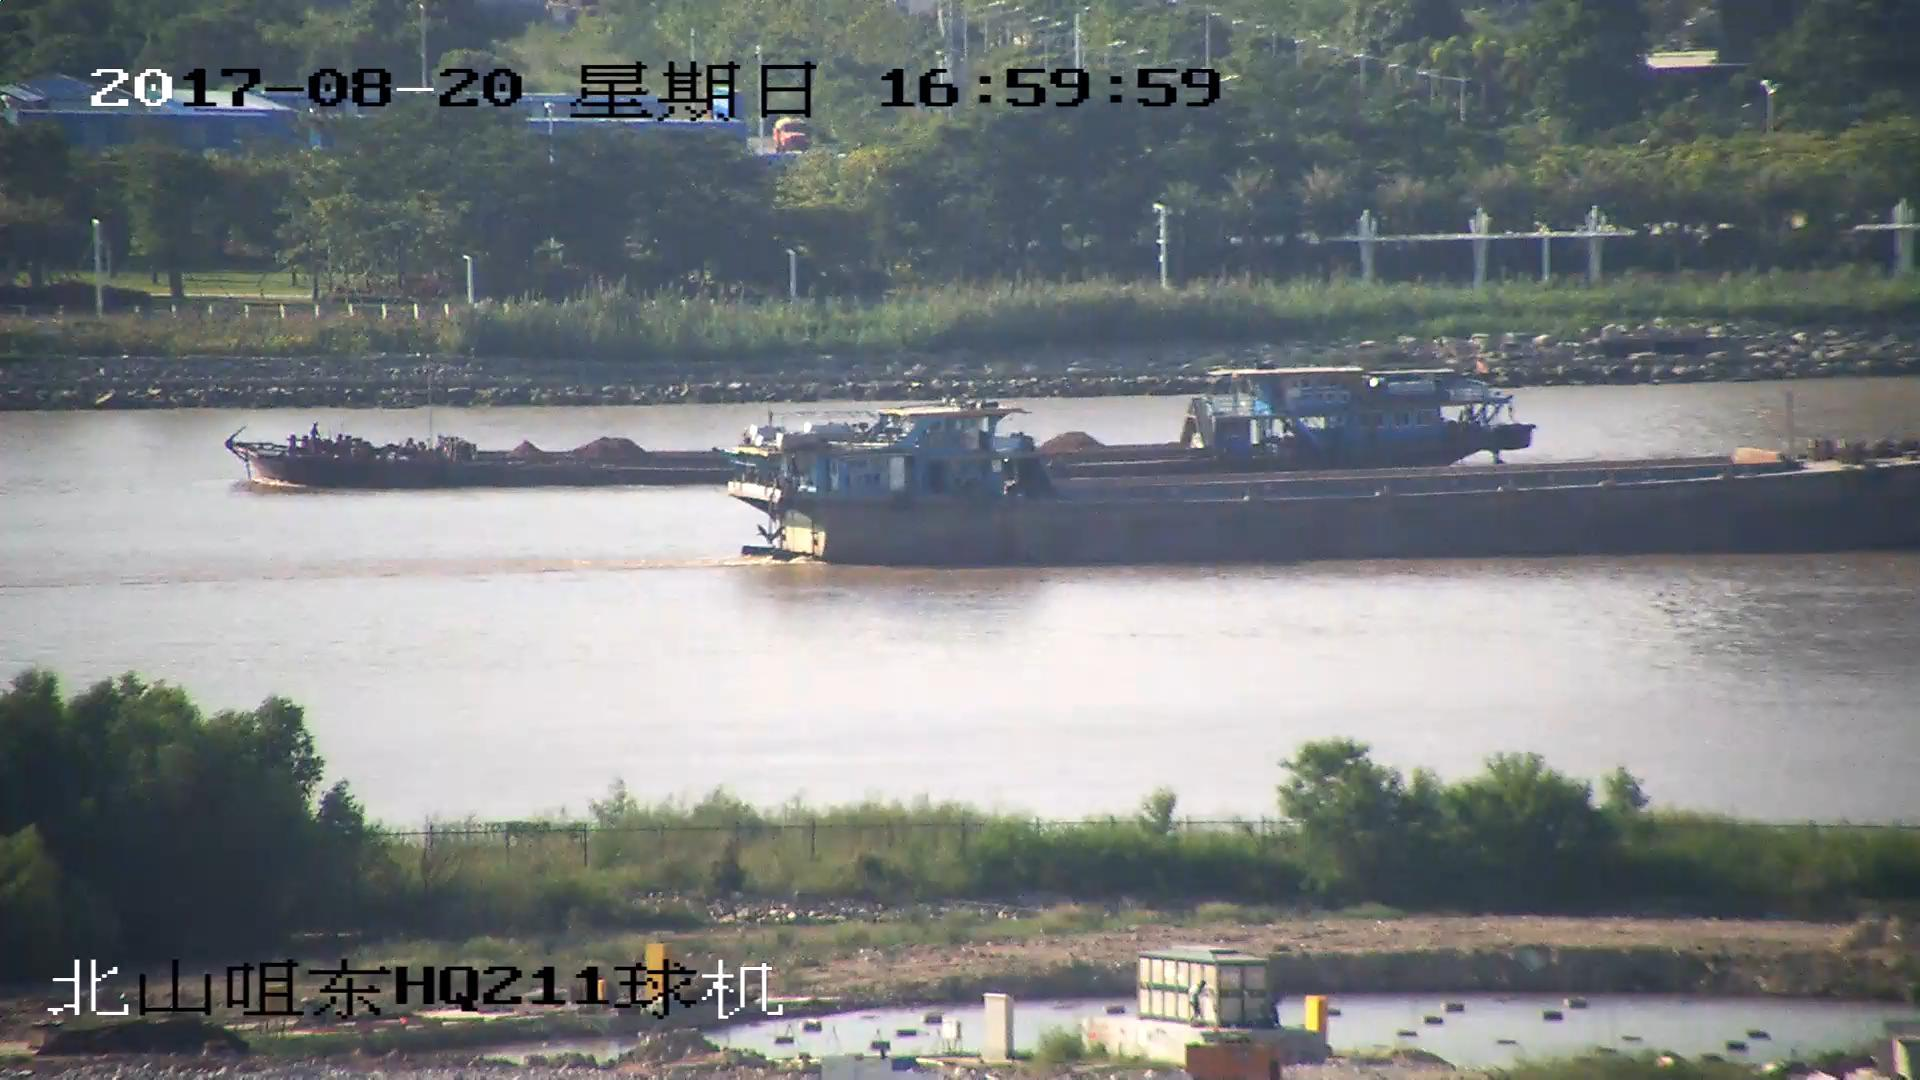Ship: (732, 411, 1920, 568), (220, 363, 1538, 491)
